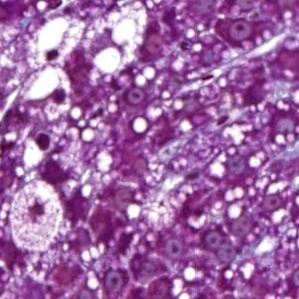ballooning: (87, 3, 150, 78), (9, 178, 66, 256), (27, 13, 90, 73), (18, 63, 72, 124)
